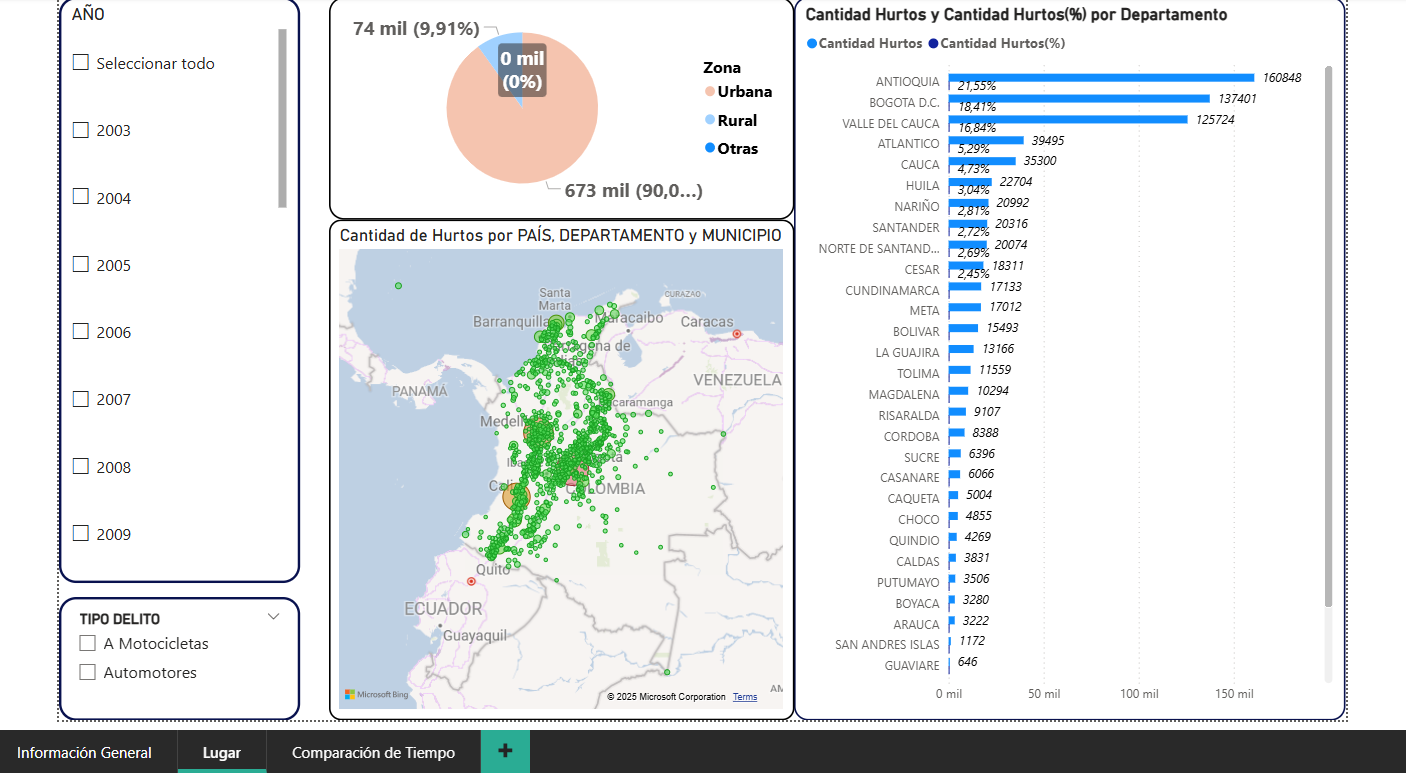

The page's visual inventory and layout, read from the dashboard file:
{"tool":"powerbi","page":{"name":"Lugar","canvas":[1280,720],"ordinal":1},"visuals":[{"type":"clusteredBarChart","fields":{"Category":["HURTO_A_VEH_CULOS_20250501.DEPARTAMENTO","HURTO_A_VEH_CULOS_20250501.MUNICIPIO"],"Y":["HURTO_A_VEH_CULOS_20250501.Cantidad_Hurto","Divide(HURTO_A_VEH_CULOS_20250501.Cantidad_Hurto, ScopedEval(HURTO_A_VEH_CULOS_20250501.Cantidad_Hurto, []))"]},"box":[731.4,0,548.6,720],"z":0},{"type":"listSlicer","fields":{"Values":["Calendario (2).AÑO"]},"box":[0,0,240,582.9],"z":1000},{"type":"pieChart","fields":{"Category":["HURTO_A_VEH_CULOS_20250501.ZONA"],"Y":["HURTO_A_VEH_CULOS_20250501.Cantidad_Hurto"]},"box":[268.6,0,462.9,221.4],"z":2000},{"type":"map","fields":{"Size":["HURTO_A_VEH_CULOS_20250501.Cantidad_Hurto"],"Category":["Tabla_pais.PAÍS","Tabla_pais.DEPARTAMENTO","Tabla_pais.MUNICIPIO"]},"box":[268.6,221.4,462.9,498.6],"z":3000},{"type":"slicer","fields":{"Values":["HURTO_A_VEH_CULOS_20250501.TIPO DELITO"]},"box":[0,597.1,240,122.9],"z":4000}]}

Visuals, with their boxes in screenshot pixels (x1, y1, x2, y2):
clusteredBarChart - HURTO_A_VEH_CULOS_20250501.DEPARTAMENTO x HURTO_A_VEH_CULOS_20250501.MUNICIPIO: select_region(794, 0, 1354, 724)
listSlicer - Calendario (2).AÑO: select_region(48, 0, 293, 584)
pieChart - HURTO_A_VEH_CULOS_20250501.ZONA x HURTO_A_VEH_CULOS_20250501.Cantidad_Hurto: select_region(322, 0, 794, 215)
map - HURTO_A_VEH_CULOS_20250501.Cantidad_Hurto x Tabla_pais.PAÍS: select_region(322, 215, 794, 724)
slicer - HURTO_A_VEH_CULOS_20250501.TIPO DELITO: select_region(48, 598, 293, 724)
